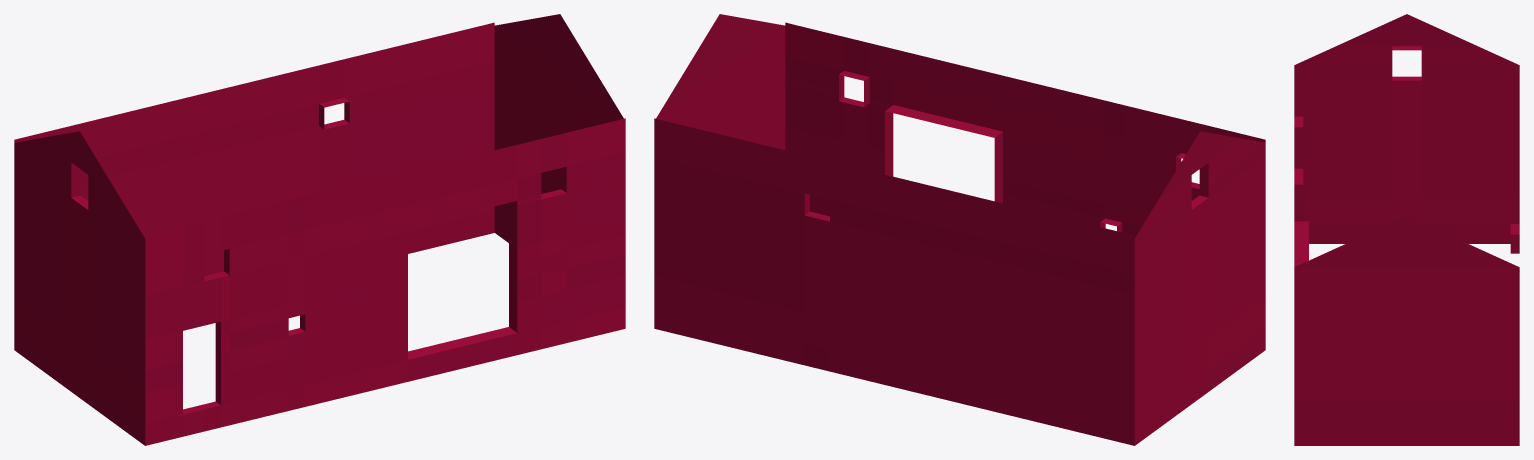
The model's file is SM_Bld_003_Masonry.glb.
3 views of the same model, side by side, from view 1: azimuth 30°, elevation 25°; view 2: azimuth 150°, elevation 25°; view 3: azimuth 270°, elevation 25° (orthographic). The views are drawn at different scales.
Visible parts, largest first — view 1: SM_Bld_003_Masonry; view 2: SM_Bld_003_Masonry; view 3: SM_Bld_003_Masonry.
Boxes of the visible parts, box(x1,y1,x2,y2) form: SM_Bld_003_Masonry: box(14, 14, 625, 445); SM_Bld_003_Masonry: box(654, 14, 1265, 445); SM_Bld_003_Masonry: box(1294, 14, 1519, 445).
Size of the model in its own units: 11.4 by 6.05 by 5.38.
